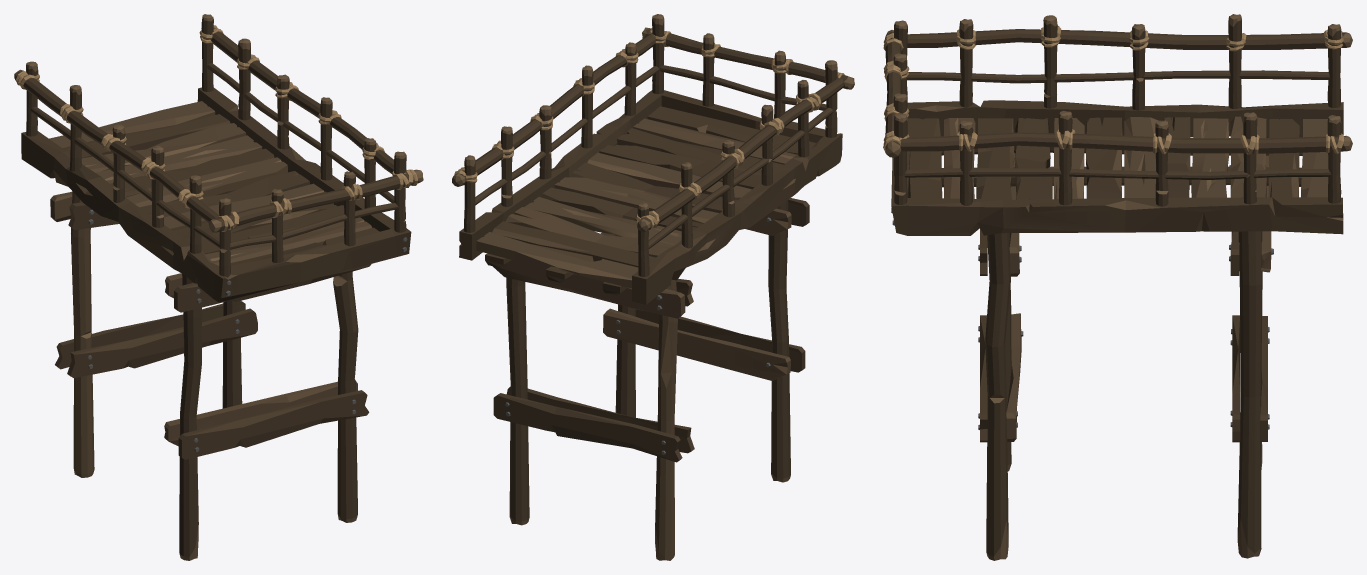
Rendered from pass_lookout.gltf.
3 renders of one model, left to right at view 1: azimuth 30°, elevation 25°; view 2: azimuth 150°, elevation 25°; view 3: azimuth 270°, elevation 25°, orthographic. The views are drawn at different scales.
Visible parts, largest first — view 1: pass_lookout; view 2: pass_lookout; view 3: pass_lookout.
Part boxes in pixels (x1,y1,x2,y2): pass_lookout: [14, 14, 423, 560]; pass_lookout: [452, 14, 854, 560]; pass_lookout: [883, 14, 1352, 560].
Size of the model in its own units: 3.24 by 5.8 by 5.47.
1 material, 1 textured.
